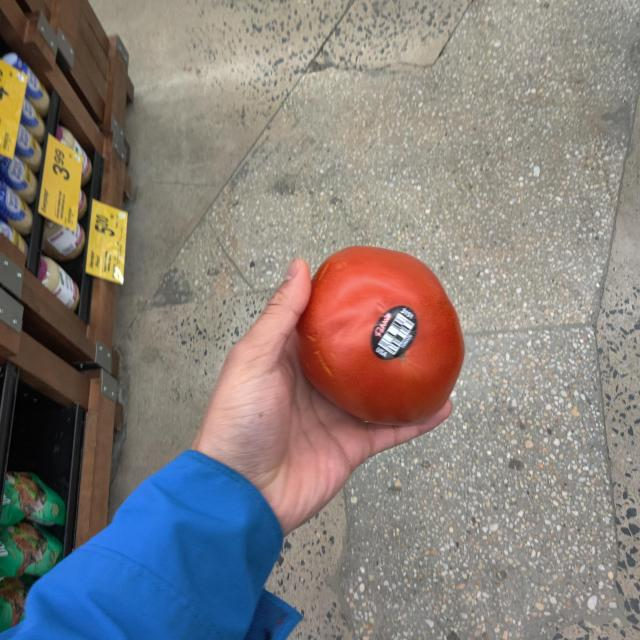Tomatoes: (297, 250, 479, 431)
